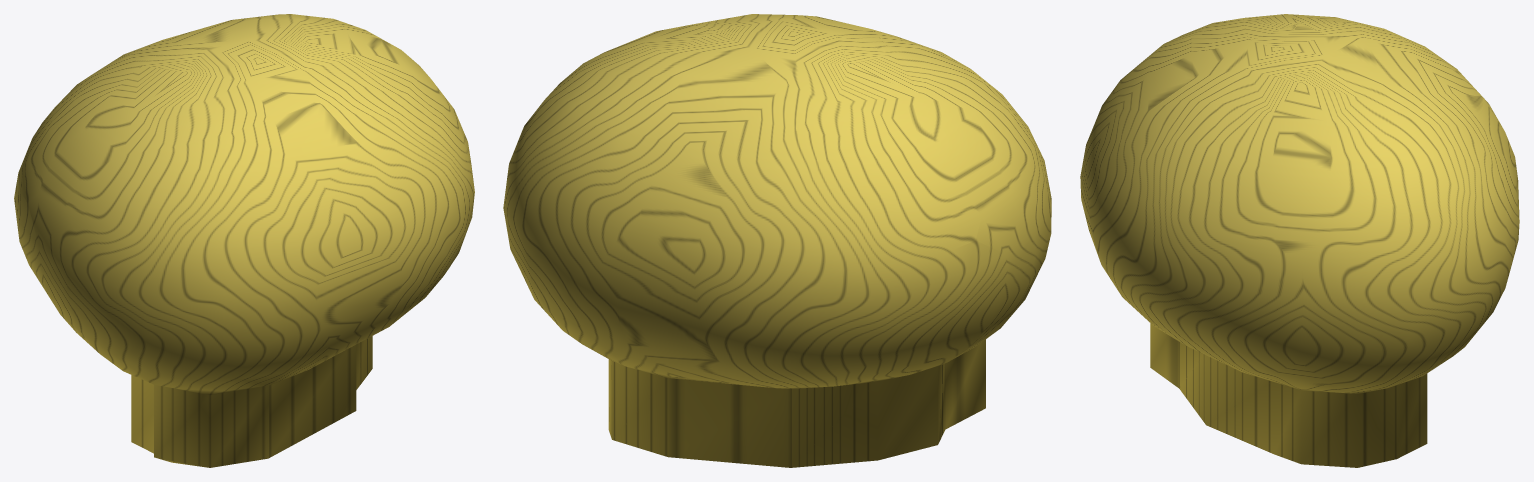
The model's file is Coral_Brain_02.fbx.
3 renders of one model, left to right at view 1: azimuth 30°, elevation 25°; view 2: azimuth 150°, elevation 25°; view 3: azimuth 270°, elevation 25°, orthographic. The views are drawn at different scales.
Visible parts, largest first — view 1: Coral_Brain_02; view 2: Coral_Brain_02; view 3: Coral_Brain_02.
Boxes of the visible parts, bbox=[...] form: Coral_Brain_02: bbox=[14, 14, 474, 467]; Coral_Brain_02: bbox=[503, 14, 1051, 467]; Coral_Brain_02: bbox=[1080, 14, 1519, 467].
Size of the model in its own units: 0.9086 by 0.76 by 0.808.
1 material, 1 textured.
